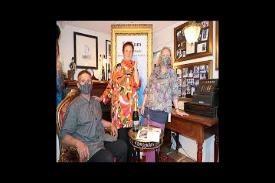mask_weared_incorrect: (125, 50, 132, 65)
with_mask: (81, 76, 92, 90), (161, 52, 170, 62)
